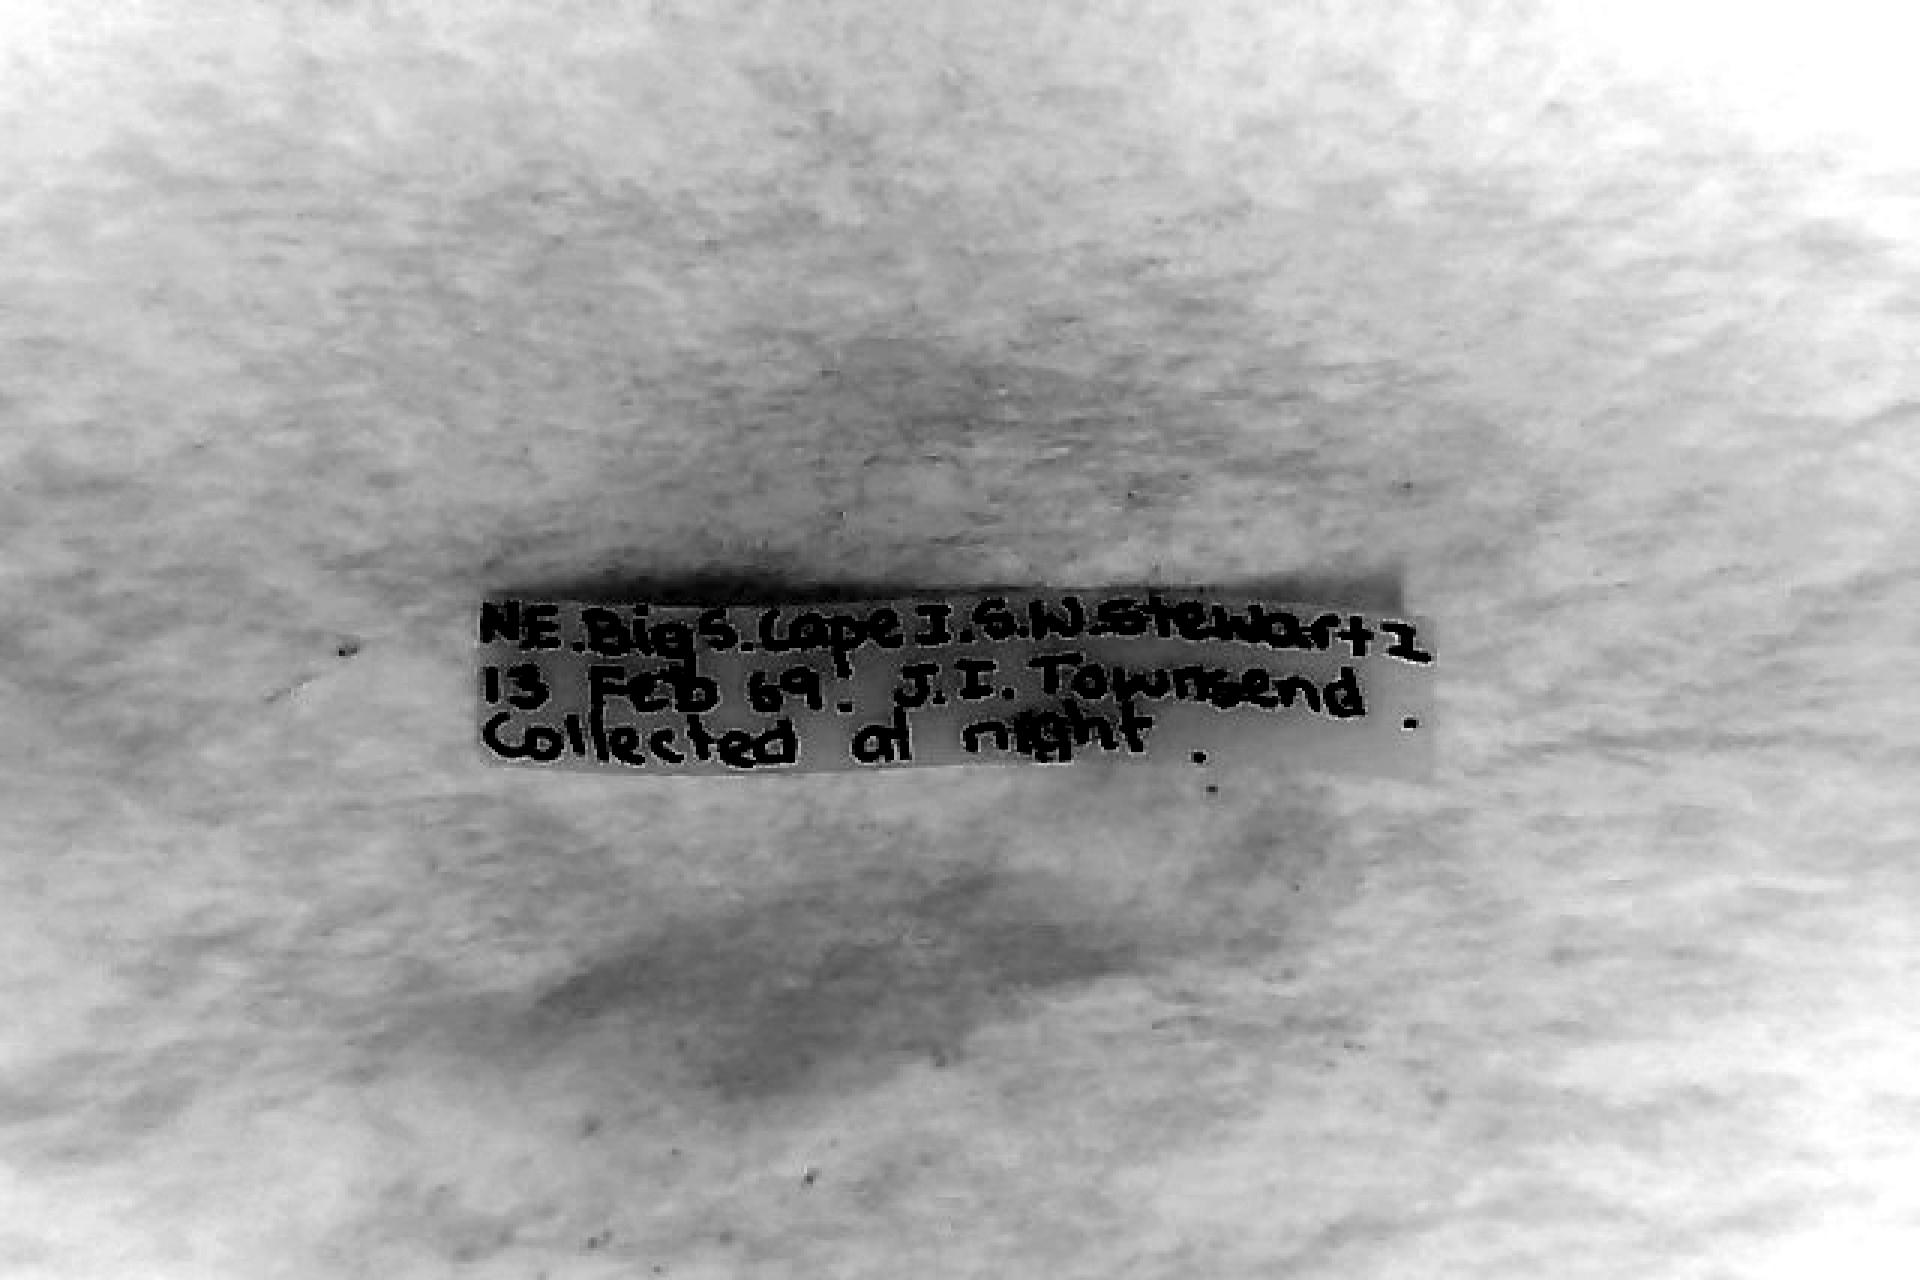hand_label: (480, 590, 1433, 771)
